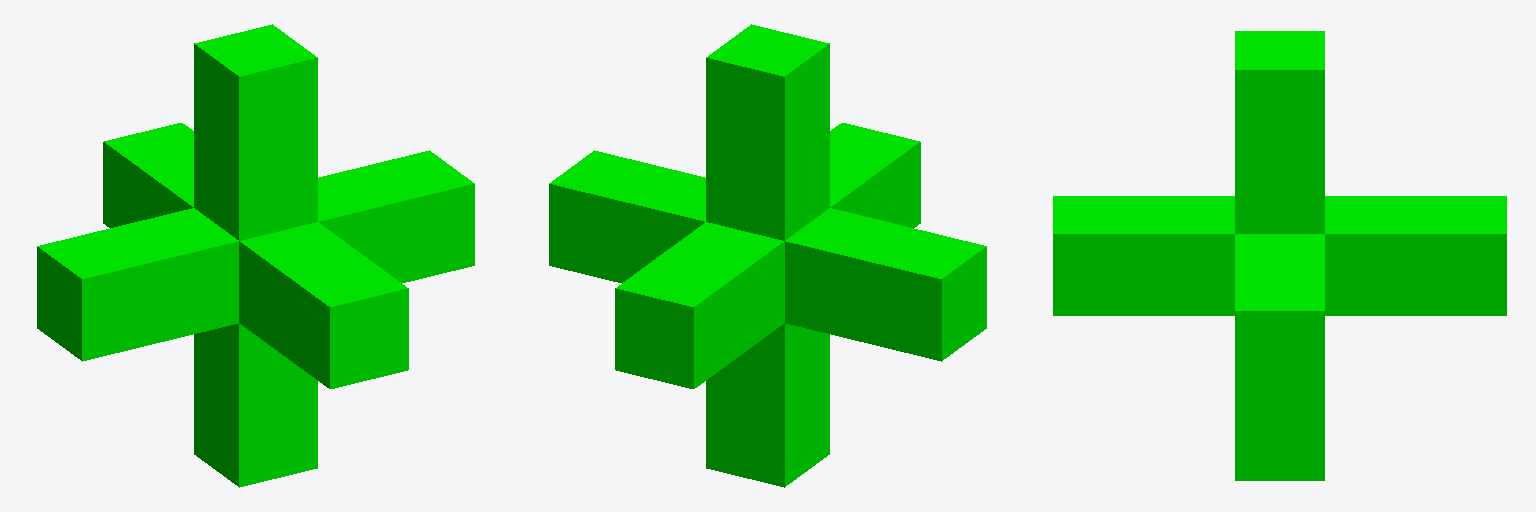
3 views of the same model, side by side, from view 1: azimuth 30°, elevation 25°; view 2: azimuth 150°, elevation 25°; view 3: azimuth 270°, elevation 25° (orthographic).
Visible parts, largest first — view 1: Cube; view 2: Cube; view 3: Cube.
Part boxes in pixels (x1,y1,x2,y2): Cube: (37,24,474,487); Cube: (549,24,986,487); Cube: (1053,31,1506,480).
Bounding box in the file's own units: 2 × 2 × 2.
1 materials, 1 textured.